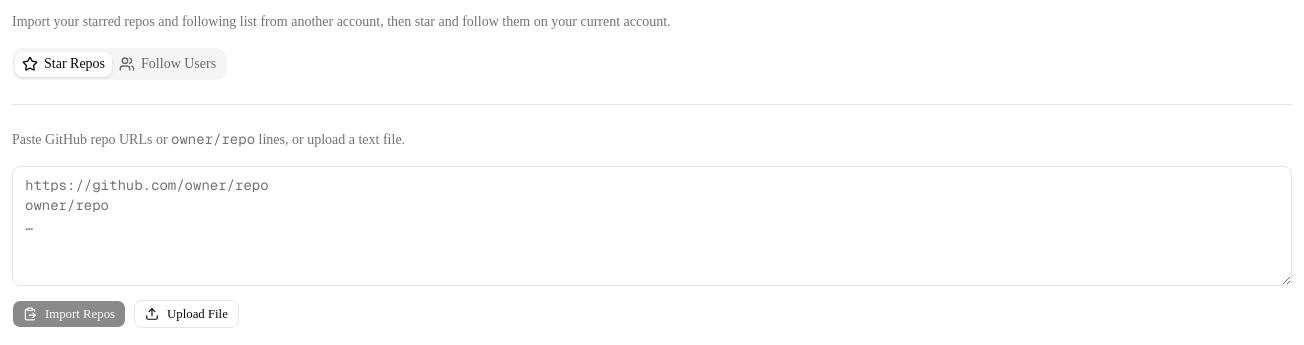
Test case: MigrateTab › switches to Follow Users sub-tab
Step 1. Click the tab "Follow Users" → (168, 64), box [112,52,223,76]
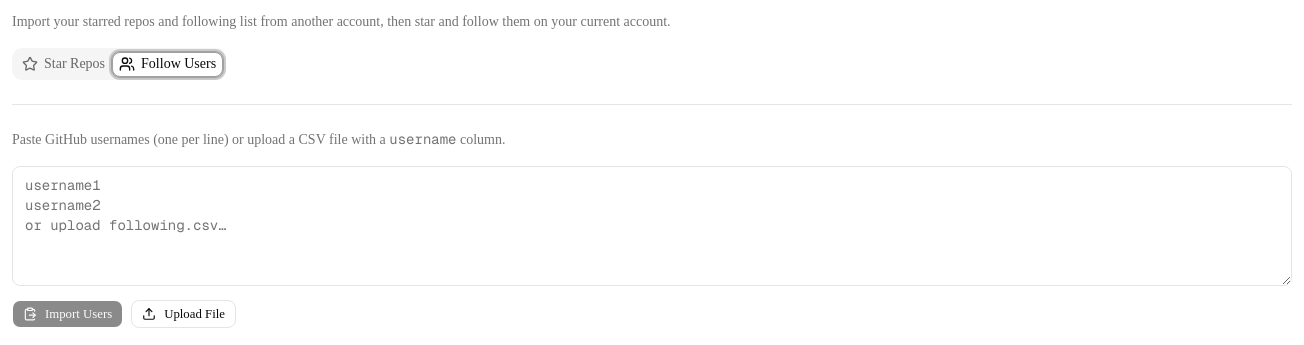
Check: the text "Paste GitHub usernames" is shown, box [12,132,386,147]
